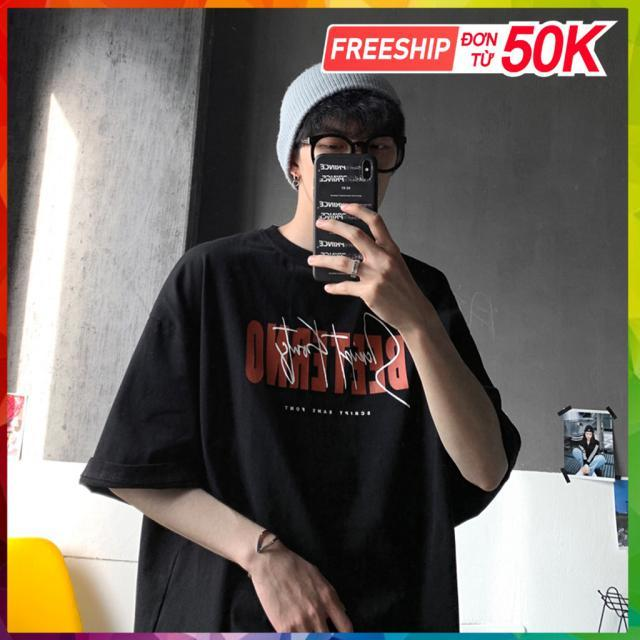Shirt: (84, 215, 520, 636)
